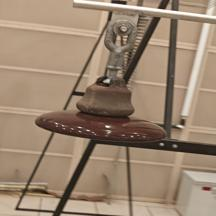insulator: (31, 73, 174, 149)
